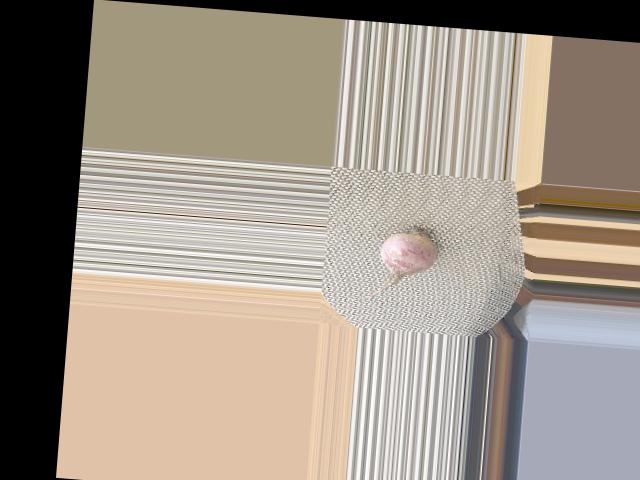beet: (351, 220, 440, 306)
